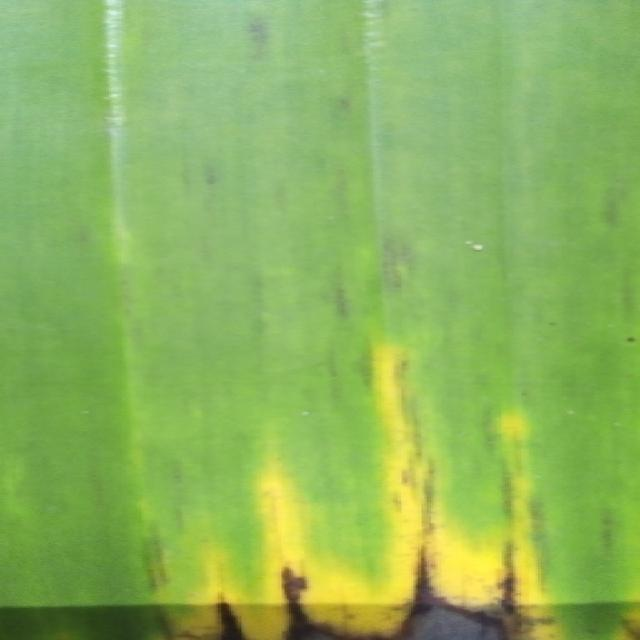Cordana: (0, 312, 640, 640)
